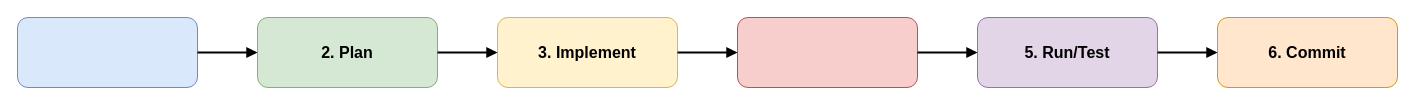
Some shapes in this 1415 by 105 pixel diagram are drawn without their labels. Each missing label, with the box of its shape:
1. Ask: (16, 16, 198, 88)
4. Review Diff: (736, 16, 918, 88)
